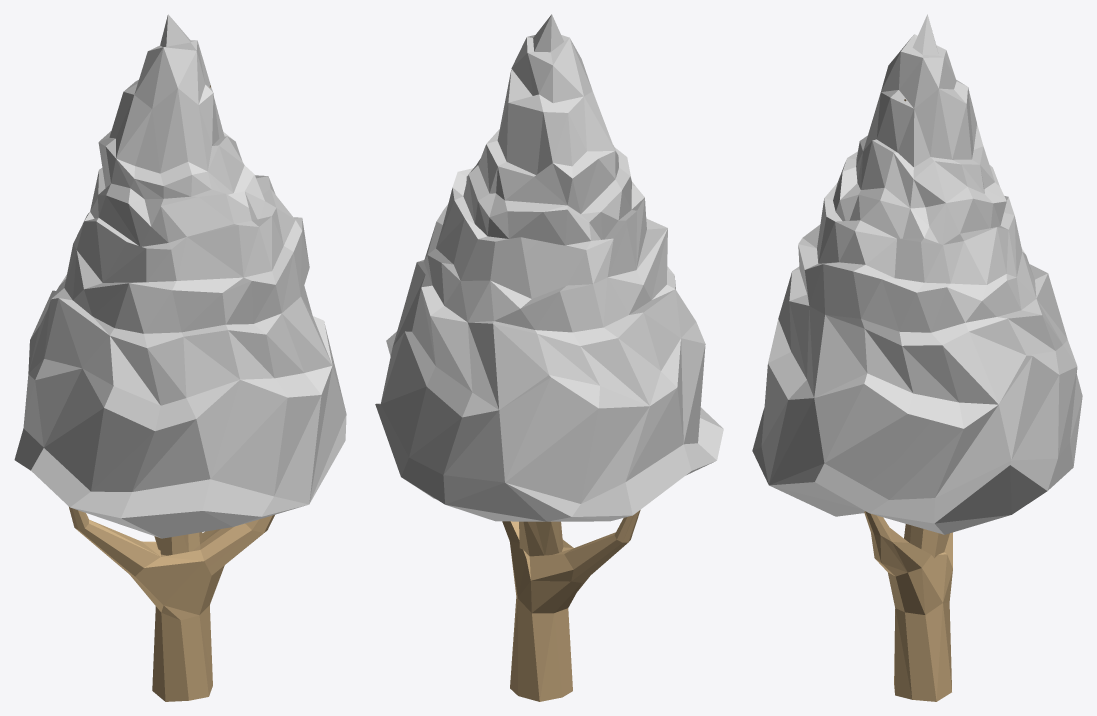
File: SnowtulipC-1.fbx
3 views of the same model, side by side, from view 1: azimuth 30°, elevation 25°; view 2: azimuth 150°, elevation 25°; view 3: azimuth 270°, elevation 25° (orthographic).
Parts seen in each view (by area): view 1: leaves.009, trunk.002; view 2: leaves.009, trunk.002; view 3: leaves.009, trunk.002.
Boxes of the visible parts, left/top/right/bottom form: leaves.009: left=14, top=14, right=346, bottom=538; trunk.002: left=69, top=85, right=274, bottom=701; leaves.009: left=375, top=14, right=723, bottom=521; trunk.002: left=502, top=510, right=640, bottom=701; leaves.009: left=752, top=14, right=1082, bottom=534; trunk.002: left=864, top=99, right=952, bottom=701.
Bounding box in the file's own units: 357 × 812 × 362.
